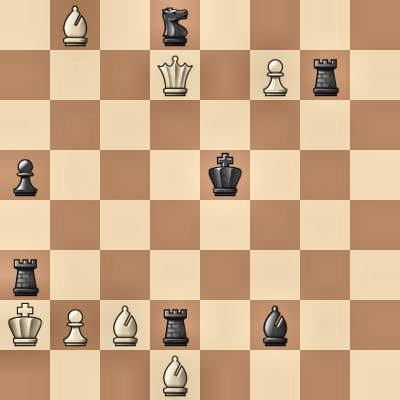black-bishop: (250, 300, 300, 350)
black-king: (200, 150, 250, 200)
black-knight: (150, 0, 200, 50)
black-pawn: (0, 150, 50, 200)
black-rook: (300, 50, 350, 100), (0, 250, 50, 300), (150, 300, 200, 350)
white-bishop: (50, 0, 100, 50), (100, 300, 150, 350), (150, 350, 200, 400)
white-king: (0, 300, 50, 350)
white-pawn: (250, 50, 300, 100), (50, 300, 100, 350)
white-queen: (150, 50, 200, 100)
